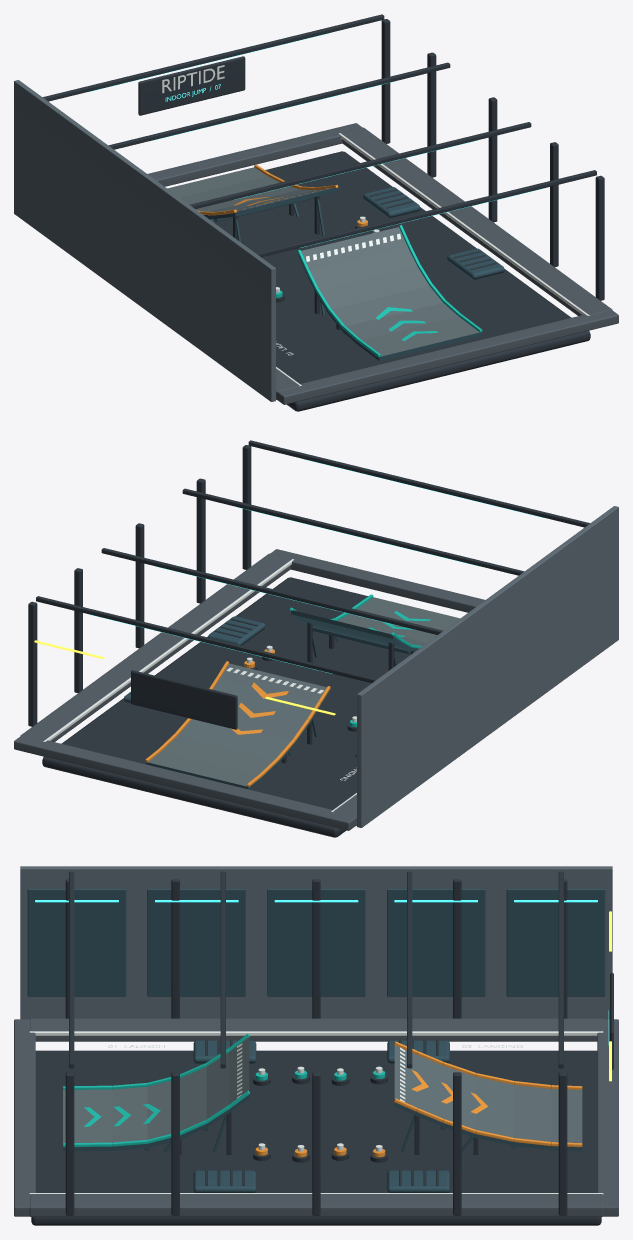
The model's file is indoor-arena.glb.
3 renders of one model, top to bottom at view 1: azimuth 30°, elevation 25°; view 2: azimuth 150°, elevation 25°; view 3: azimuth 270°, elevation 25°, orthographic. The views are drawn at different scales.
Visible parts, largest first — view 1: Riptide Jump Arena; view 2: Riptide Jump Arena; view 3: Riptide Jump Arena.
Boxes of the visible parts, left/top/right/bottom form: Riptide Jump Arena: left=14, top=14, right=618, bottom=411; Riptide Jump Arena: left=14, top=440, right=618, bottom=837; Riptide Jump Arena: left=14, top=866, right=618, bottom=1225.
Bounding box in the file's own units: 13.34 × 5.6 × 17.18.
